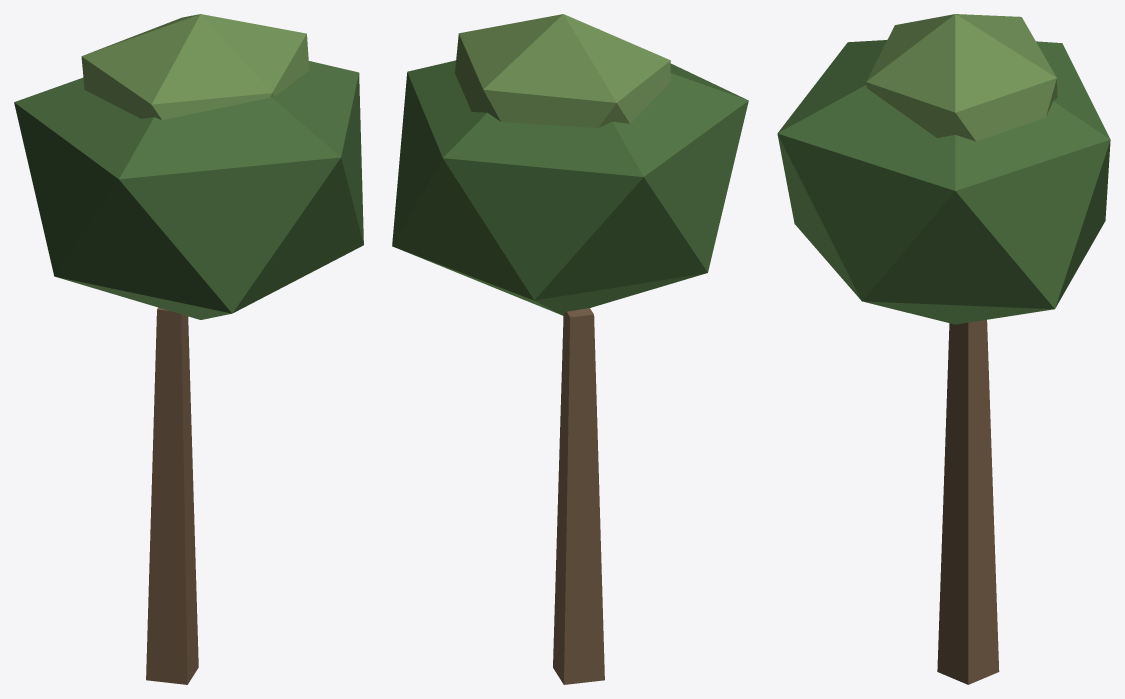
The model's file is tree_broadleaf_01_lod2.glb.
3 views of the same model, side by side, from view 1: azimuth 30°, elevation 25°; view 2: azimuth 150°, elevation 25°; view 3: azimuth 270°, elevation 25° (orthographic). The views are drawn at different scales.
Visible parts, largest first — view 1: tree_broadleaf_01_lod2; view 2: tree_broadleaf_01_lod2; view 3: tree_broadleaf_01_lod2.
Boxes of the visible parts, x1,y1,x2,y2 form: tree_broadleaf_01_lod2: (14, 14, 363, 684); tree_broadleaf_01_lod2: (392, 14, 748, 684); tree_broadleaf_01_lod2: (777, 14, 1110, 684).
Size of what is drawn, in the model's own units: 2.77 by 5.73 by 2.59.
Materials: 1 (1 with a texture image).
